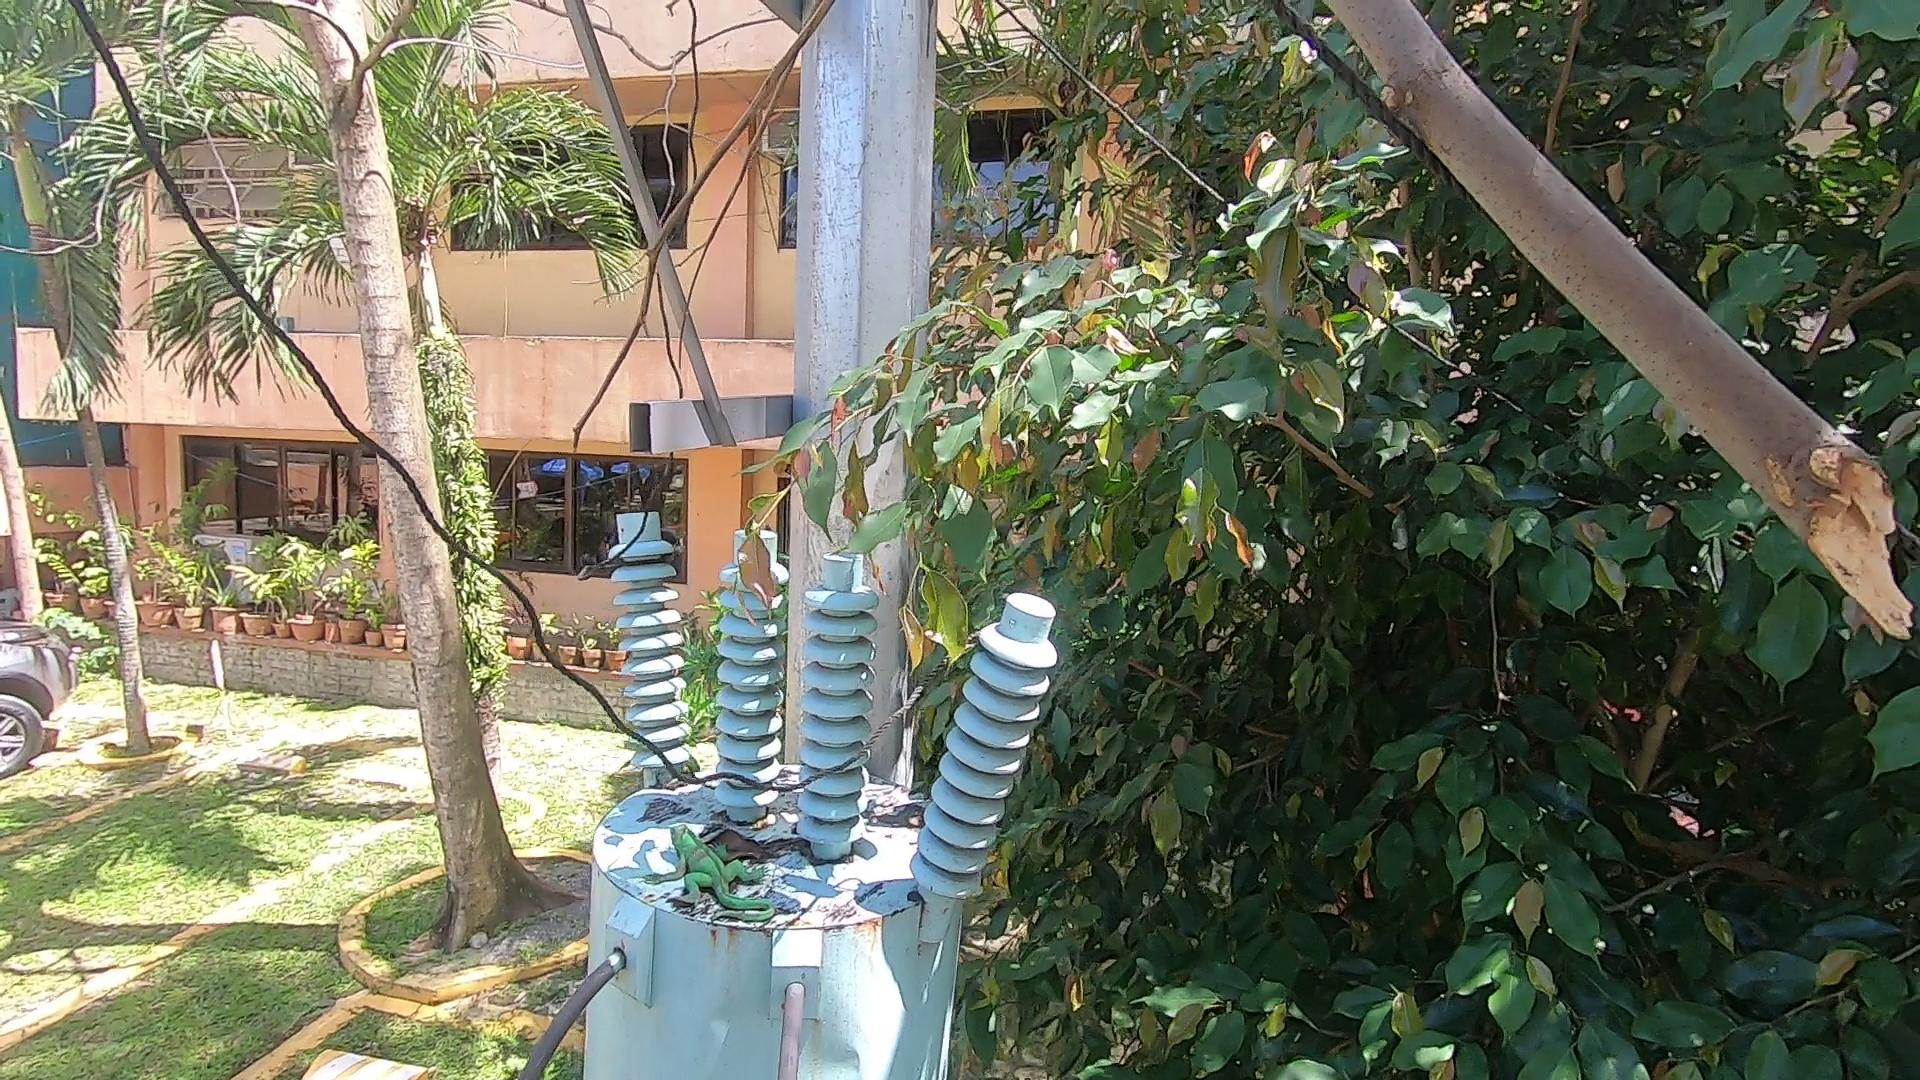branch with leaves: (662, 334, 1044, 676)
leaf: (695, 815, 829, 887), (856, 799, 938, 845), (658, 760, 716, 800)
tree branch: (1308, 5, 1909, 636)
